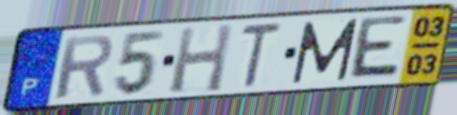5: (113, 28, 167, 98)
E: (344, 13, 410, 81)
H: (167, 21, 236, 95)
M: (290, 16, 362, 86)
R: (53, 32, 116, 101)
T: (239, 21, 285, 91)
